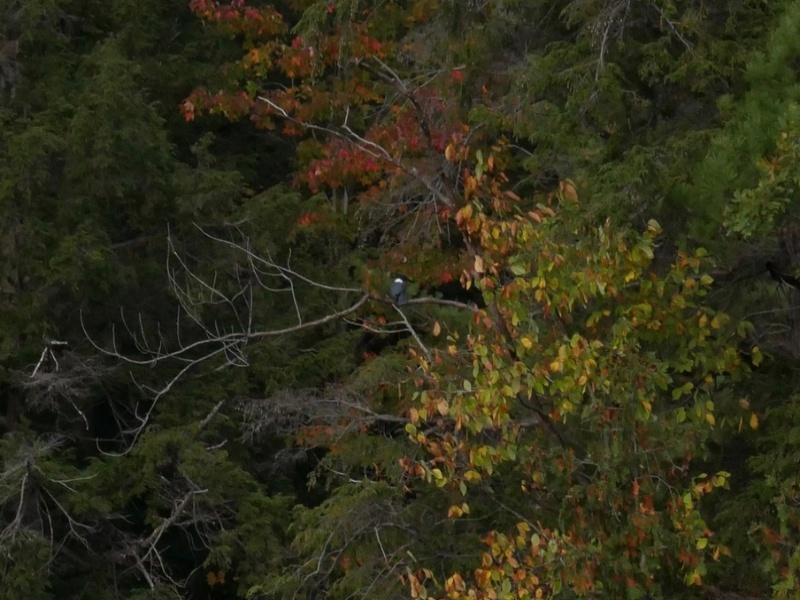kingfisher: (387, 271, 415, 308)
